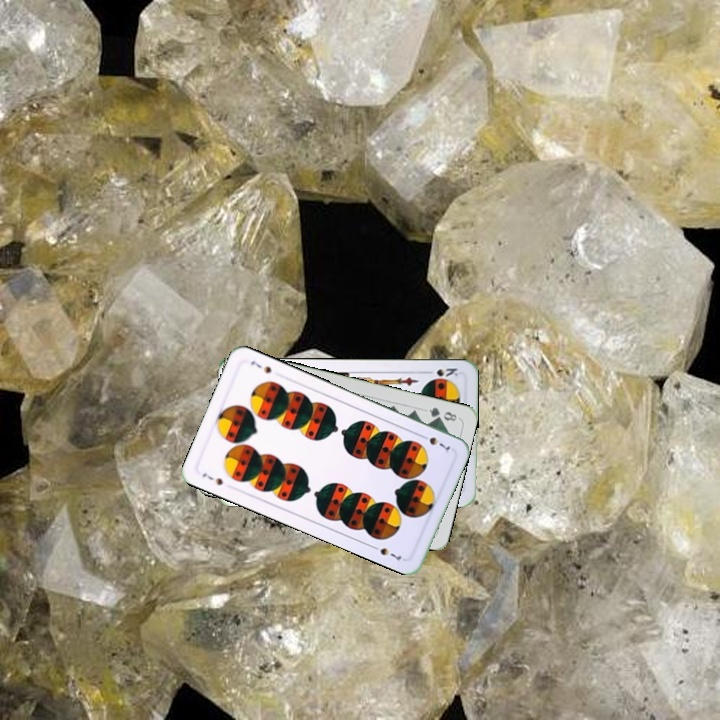G8: (425, 403, 460, 424)
S7: (416, 430, 453, 454), (198, 469, 225, 488)
SK: (421, 364, 460, 382)
